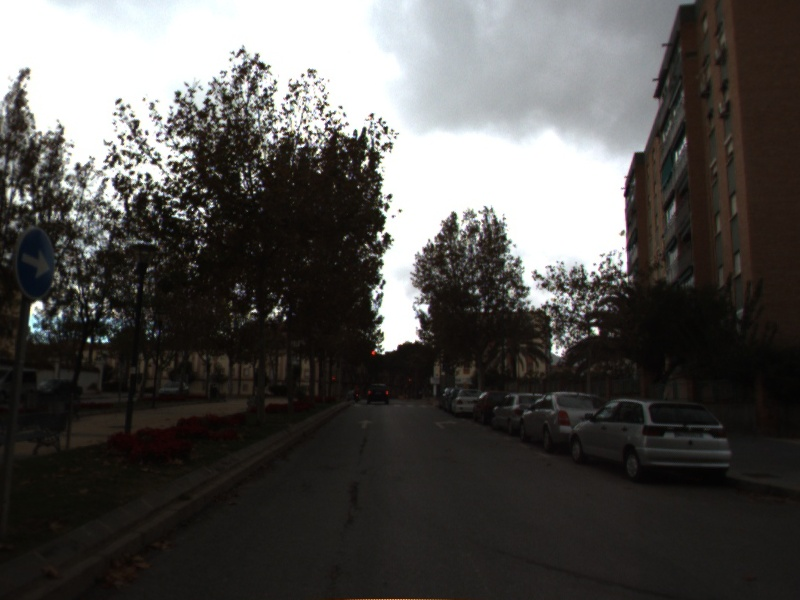RIGHT: (431, 417, 459, 431)
STRAIGHT: (355, 417, 376, 431)
